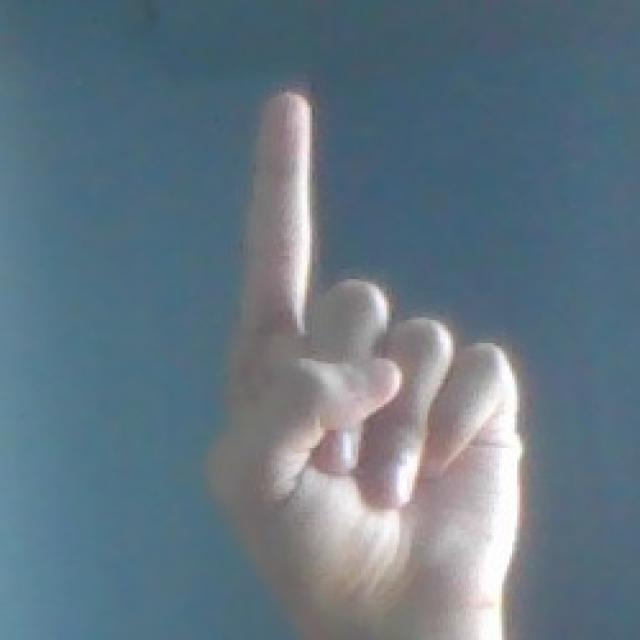Numeric-1: (206, 95, 524, 640)
